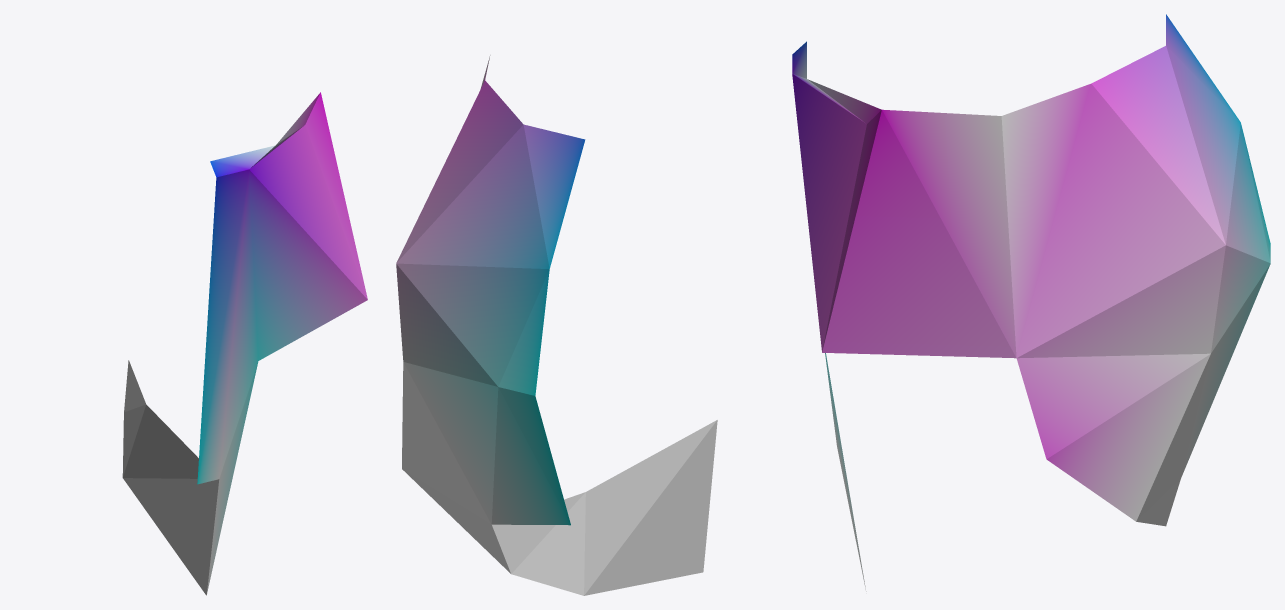
3 renders of one model, left to right at view 1: azimuth 30°, elevation 25°; view 2: azimuth 150°, elevation 25°; view 3: azimuth 270°, elevation 25°, orthographic. The views are drawn at different scales.
Parts seen in each view (by area): view 1: model_10FA; view 2: model_10FA; view 3: model_10FA.
Boxes of the visible parts, x1,y1,x2,y2 form: model_10FA: (122,92,367,595); model_10FA: (396,55,717,595); model_10FA: (792,14,1270,591).
Bounding box in the file's own units: 19 × 42 × 32.
